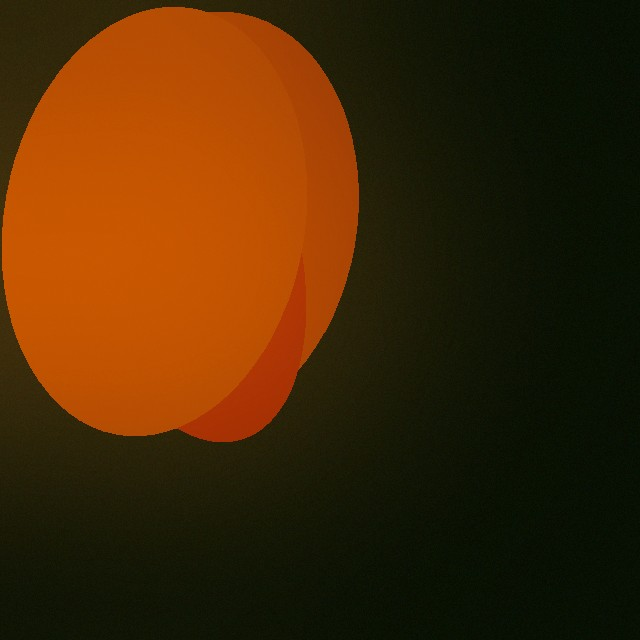fire: (84, 109, 258, 411)
